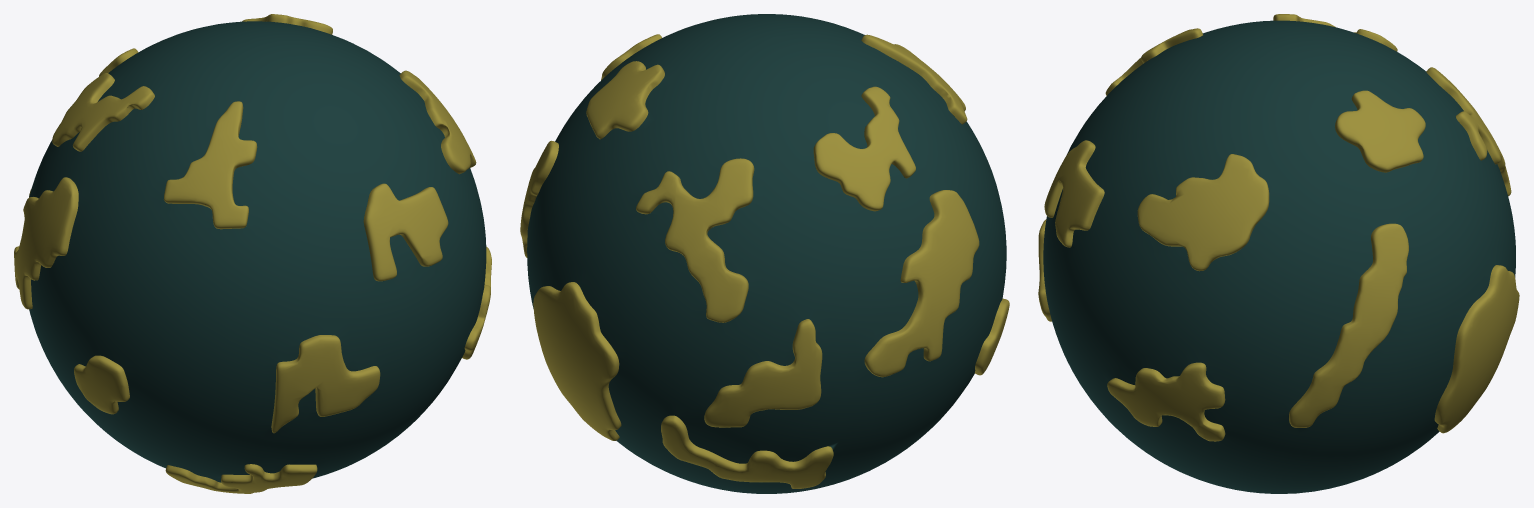
The model's file is 1st World.fbx.
The picture shows the model from 3 angles, left to right: view 1: azimuth 30°, elevation 25°; view 2: azimuth 150°, elevation 25°; view 3: azimuth 270°, elevation 25°; orthographic projection. The views are drawn at different scales.
Visible parts, largest first — view 1: Base Planet, Landmark.008, Landmark.007, Landmark.011, Landmark.005, Landmark.006, Landmark.009, Landmark.010, Landmark.012, Landmark.013, Landmark.015; view 2: Base Planet, Landmark.005, Landmark.001, Landmark.004, Landmark.006, Landmark.002, Landmark.003, Landmark.015, Landmark.007, Landmark.014, Landmark.010; view 3: Base Planet, Landmark.012, Landmark.014, Landmark.004, Landmark.013, Landmark.015, Landmark.011, Landmark.001, Landmark.007, Landmark.008, Landmark.006.
Part boxes in pixels (x1,y1,x2,y2): Base Planet: [29, 21, 486, 482]; Landmark.008: [271, 335, 380, 433]; Landmark.007: [164, 101, 257, 229]; Landmark.011: [363, 183, 448, 281]; Landmark.005: [14, 177, 78, 309]; Landmark.006: [52, 73, 154, 151]; Landmark.009: [165, 464, 317, 493]; Landmark.010: [74, 355, 129, 414]; Landmark.012: [399, 70, 476, 174]; Landmark.013: [462, 246, 491, 359]; Landmark.015: [242, 14, 332, 34]; Base Planet: [527, 14, 1006, 493]; Landmark.005: [864, 190, 979, 377]; Landmark.001: [636, 158, 754, 322]; Landmark.004: [533, 282, 621, 440]; Landmark.006: [813, 86, 915, 211]; Landmark.002: [704, 319, 822, 427]; Landmark.003: [661, 415, 833, 488]; Landmark.015: [586, 61, 664, 139]; Landmark.007: [861, 34, 967, 124]; Landmark.014: [520, 140, 558, 257]; Landmark.010: [975, 298, 1009, 375]; Base Planet: [1043, 20, 1515, 493]; Landmark.012: [1137, 154, 1269, 271]; Landmark.014: [1289, 223, 1408, 427]; Landmark.004: [1434, 265, 1519, 433]; Landmark.013: [1107, 362, 1225, 441]; Landmark.015: [1335, 90, 1425, 172]; Landmark.011: [1044, 140, 1104, 247]; Landmark.001: [1426, 67, 1511, 196]; Landmark.007: [1105, 28, 1202, 95]; Landmark.008: [1038, 219, 1051, 321]; Landmark.006: [1273, 14, 1397, 51].
Size of the model in its own units: 203 by 200 by 203.
